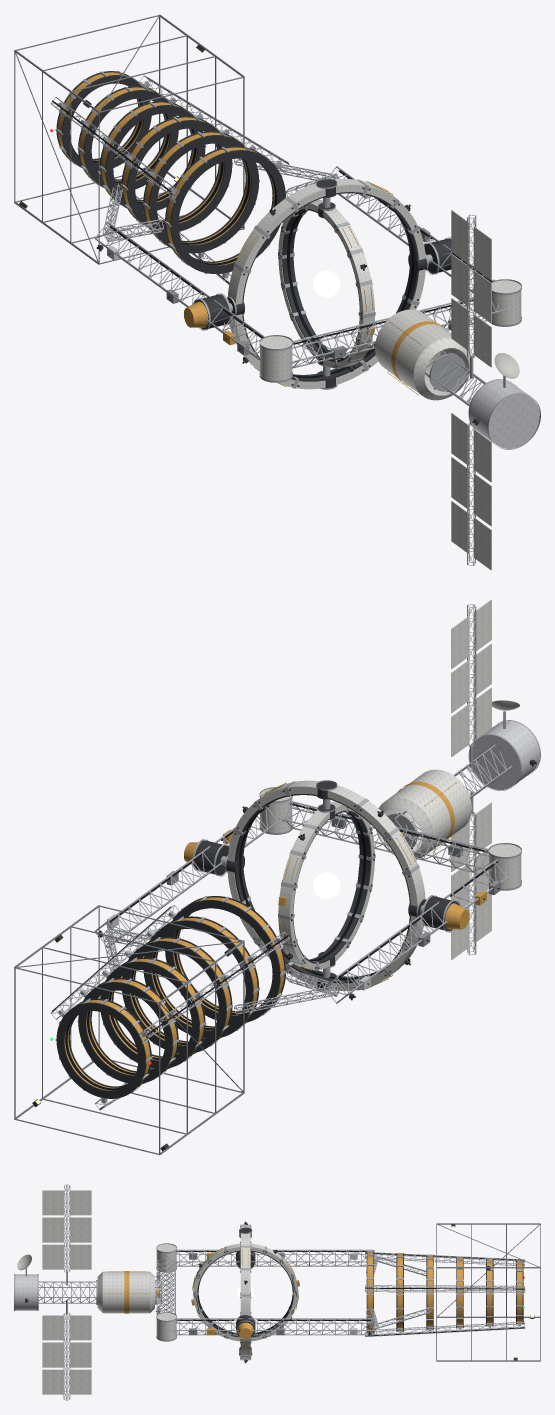
The model's file is relay.glb.
3 renders of one model, top to bottom at view 1: azimuth 30°, elevation 25°; view 2: azimuth 150°, elevation 25°; view 3: azimuth 270°, elevation 25°, orthographic. The views are drawn at different scales.
Visible parts, largest first — view 1: frame, ring segment, ringB, scaffold, coil 1, coil 0, coil 2, coil 4, coil 3, coil 5; view 2: frame, ring segment, ringB, scaffold, coil 5, coil 4, coil 0, coil 3, coil 2, coil 1; view 3: frame, ringB, scaffold, ring segment, coil 1, coil 2, coil 0, coil 3, coil 4, coil 5.
Part boxes in pixels (box(x1,y1,x2,y2)): frame: box(50, 75, 540, 570); ring segment: box(227, 178, 432, 389); ringB: box(278, 197, 375, 376); scaffold: box(14, 14, 244, 264); coil 1: box(142, 131, 259, 253); coil 0: box(164, 146, 285, 273); coil 2: box(121, 116, 232, 232); coil 4: box(77, 86, 179, 190); coil 3: box(99, 101, 206, 212); coil 5: box(55, 71, 151, 171); frame: box(50, 599, 540, 1110); ring segment: box(220, 780, 426, 990); ringB: box(278, 799, 375, 977); scaffold: box(14, 905, 244, 1155); coil 5: box(55, 998, 152, 1098); coil 4: box(77, 978, 179, 1083); coil 0: box(165, 896, 286, 1023); coil 3: box(100, 957, 206, 1068); coil 2: box(122, 937, 232, 1053); coil 1: box(143, 916, 259, 1038); frame: box(14, 1184, 525, 1400); ringB: box(191, 1243, 299, 1341); scaffold: box(436, 1223, 540, 1361); ring segment: box(239, 1221, 252, 1363); coil 1: box(396, 1253, 403, 1331); coil 2: box(426, 1254, 433, 1330); coil 0: box(366, 1251, 373, 1333); coil 3: box(456, 1256, 463, 1328); coil 4: box(486, 1258, 493, 1326); coil 5: box(516, 1260, 523, 1324).
Size of the model in its own units: 2.36 by 2.84 by 6.34.
37 materials, 8 textured.
